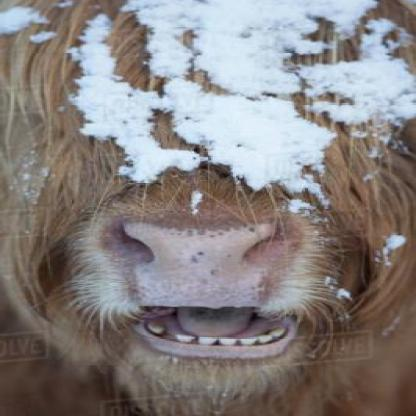lower: (192, 353, 236, 372)
mouth: (88, 203, 316, 374)
upper: (179, 247, 226, 276)
